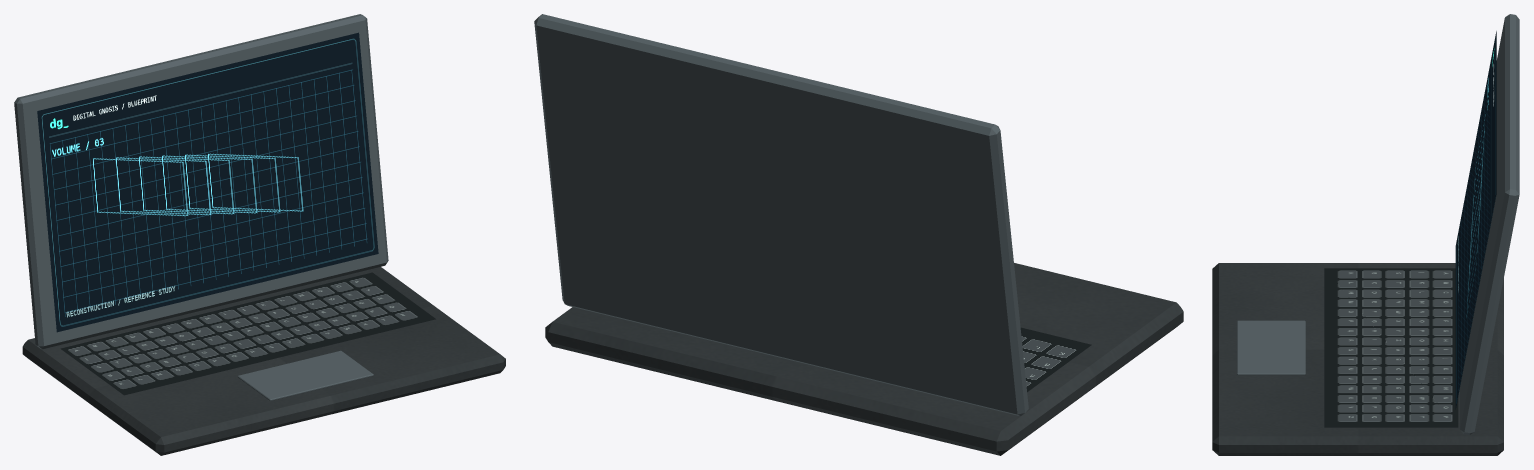
File: Laptop.glb
3 renders of one model, left to right at view 1: azimuth 30°, elevation 25°; view 2: azimuth 150°, elevation 25°; view 3: azimuth 270°, elevation 25°, orthographic. The views are drawn at different scales.
Parts seen in each view (by area): view 1: Laptop__Screen_blueprint__screen_laptop, Laptop__Powdercoat__mesh, Laptop__BlackenedSteel__mesh, Laptop__KeyboardKeys__mesh; view 2: Laptop__BlackenedSteel__mesh, Laptop__Powdercoat__mesh, Laptop__KeyboardKeys__mesh; view 3: Laptop__Powdercoat__mesh, Laptop__KeyboardKeys__mesh, Laptop__BlackenedSteel__mesh, Laptop__Screen_blueprint__screen_laptop.
Boxes of the visible parts, box(x1,y1,x2,y2) form: Laptop__Screen_blueprint__screen_laptop: box(37, 32, 378, 332); Laptop__Powdercoat__mesh: box(22, 267, 505, 455); Laptop__BlackenedSteel__mesh: box(14, 14, 388, 401); Laptop__KeyboardKeys__mesh: box(60, 272, 435, 395); Laptop__BlackenedSteel__mesh: box(534, 14, 1028, 416); Laptop__Powdercoat__mesh: box(545, 263, 1183, 455); Laptop__KeyboardKeys__mesh: box(1020, 327, 1091, 392); Laptop__Powdercoat__mesh: box(1212, 263, 1503, 455); Laptop__KeyboardKeys__mesh: box(1324, 268, 1458, 427); Laptop__BlackenedSteel__mesh: box(1237, 14, 1519, 435); Laptop__Screen_blueprint__screen_laptop: box(1455, 31, 1496, 409).
Size of the model in its own units: 0.37 by 0.2582 by 0.2685.
Materials: 4 (3 with a texture image).
